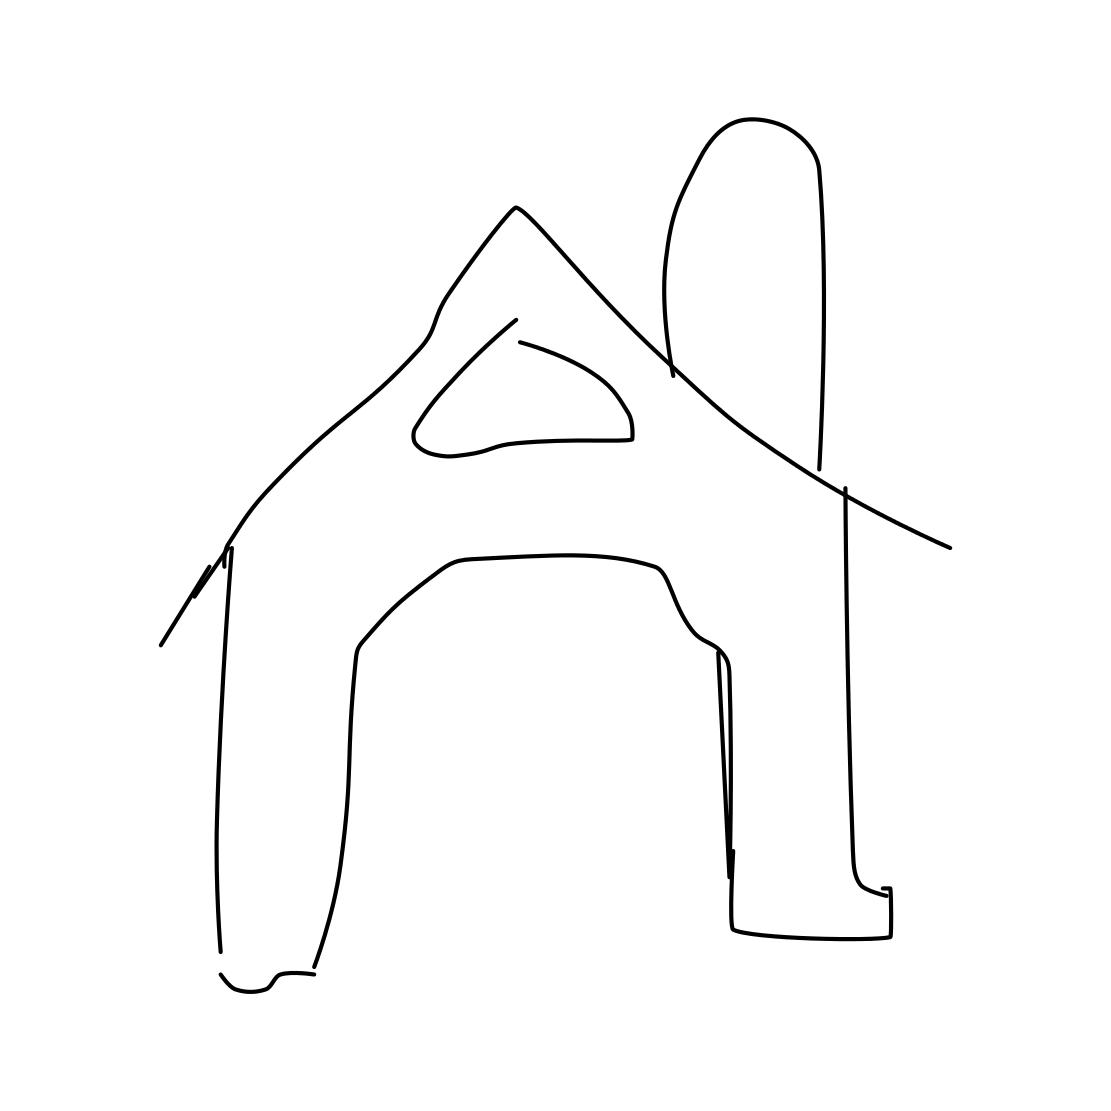House: (103, 98, 982, 1002)
